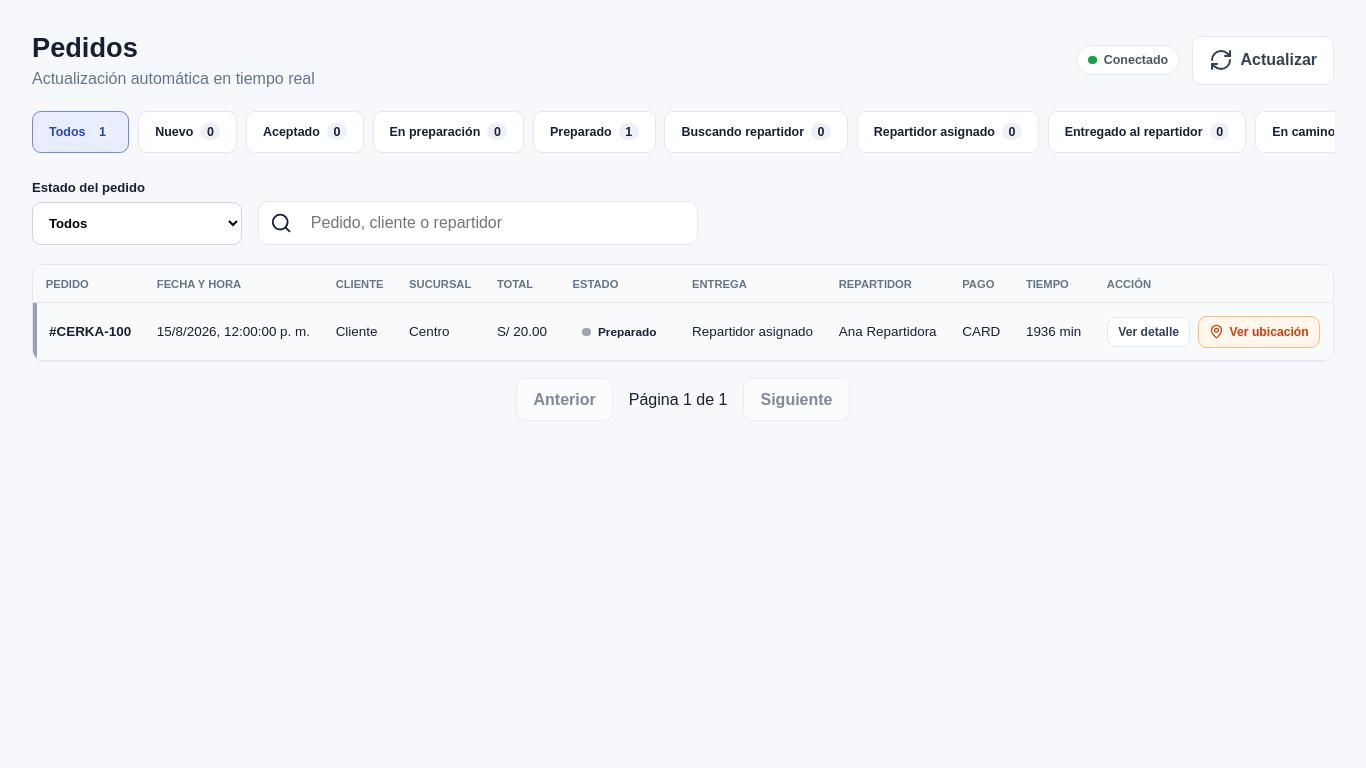
it: detalle de asignación del pedido › actualiza el mensaje abierto cuando la asignación cambia a ACCEPTED
What coordinates should you click on to do the following:
click the button "Ver detalle"
I would click on:
 (1149, 332)
Its box is [1107, 317, 1190, 347].
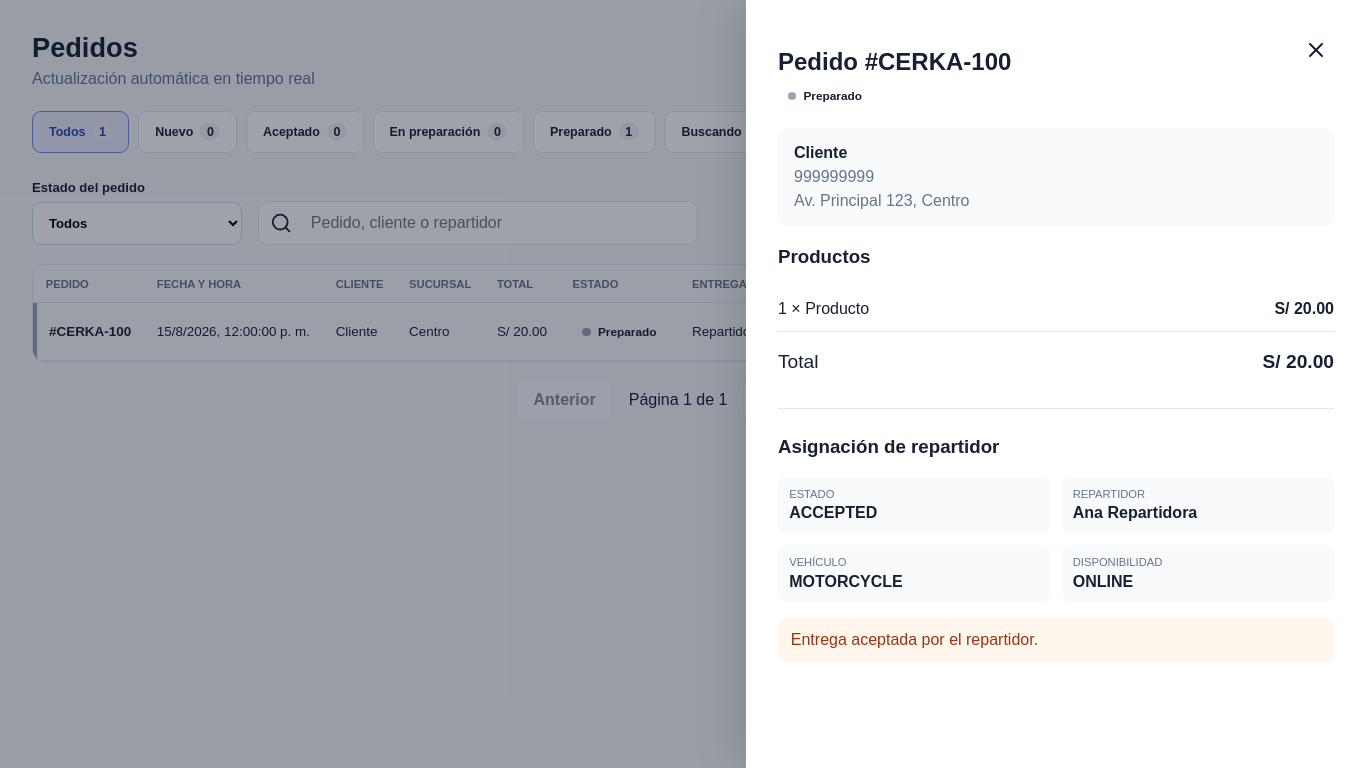
Now the text "Entrega aceptada por el repartidor." is shown, box [778, 618, 1334, 662]
Now the text "ACCEPTED" is shown, box [789, 504, 877, 522]
